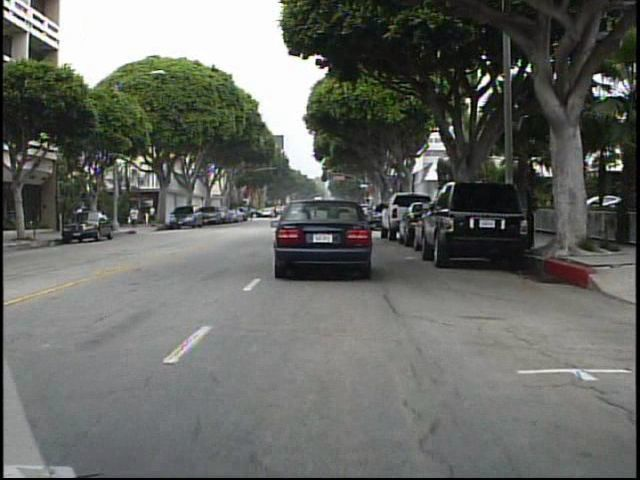person: (127, 201, 143, 231), (267, 201, 283, 225), (145, 201, 158, 229)
